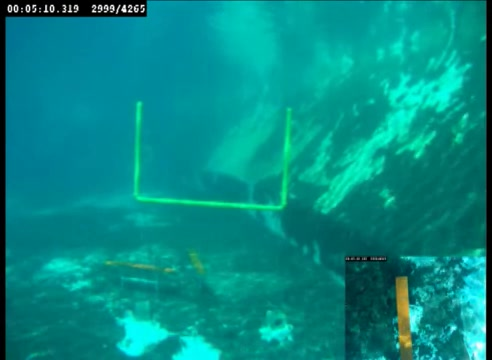channel: (129, 100, 298, 214)
